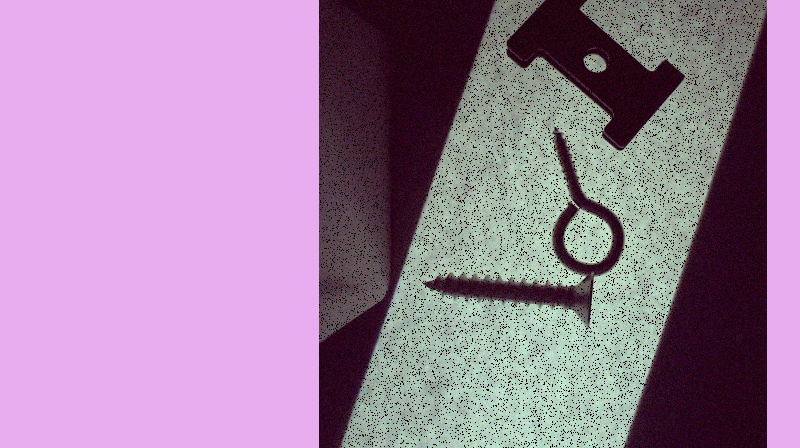O001: (549, 126, 626, 275)
O002: (505, 0, 688, 154)
S001: (421, 265, 598, 328)
